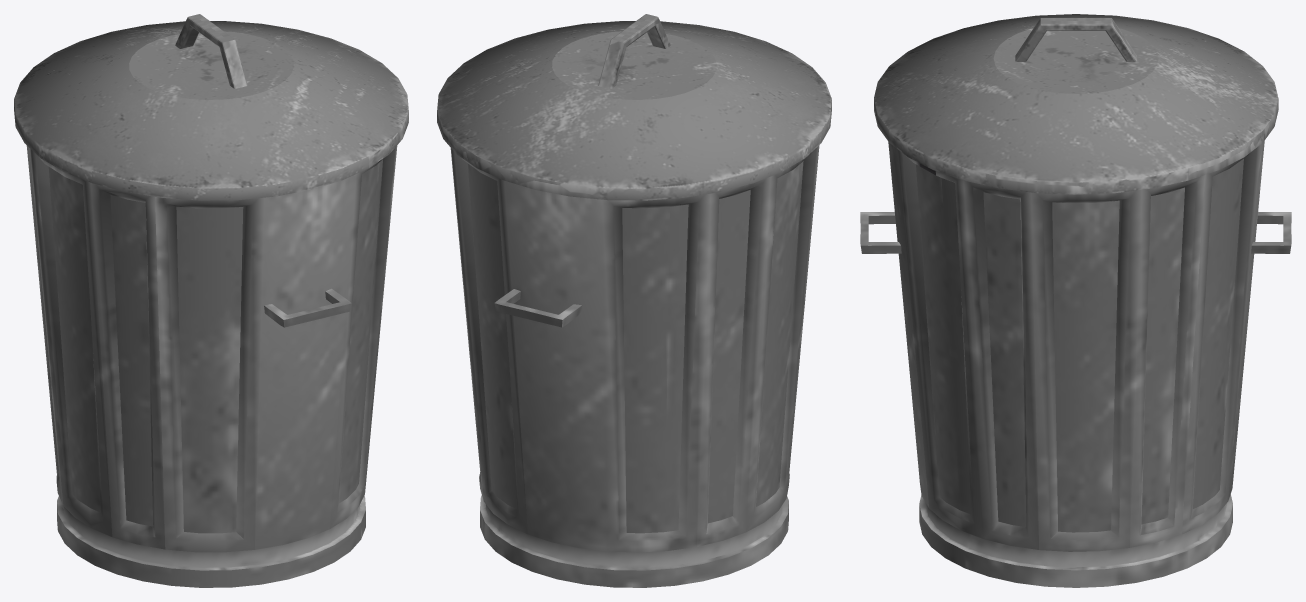
The model's file is Trash_Can.fbx.
3 views of the same model, side by side, from view 1: azimuth 30°, elevation 25°; view 2: azimuth 150°, elevation 25°; view 3: azimuth 270°, elevation 25° (orthographic).
Visible parts, largest first — view 1: Cube.001, Cube; view 2: Cube.001, Cube; view 3: Cube.001, Cube.
Boxes of the visible parts, left/top/right/bottom form: Cube.001: left=26, top=145, right=397, bottom=587; Cube: left=14, top=14, right=408, bottom=200; Cube.001: left=450, top=145, right=819, bottom=587; Cube: left=437, top=14, right=831, bottom=200; Cube.001: left=860, top=141, right=1291, bottom=587; Cube: left=874, top=14, right=1278, bottom=194.
Size of the model in its own units: 74.7 by 103 by 80.73.
